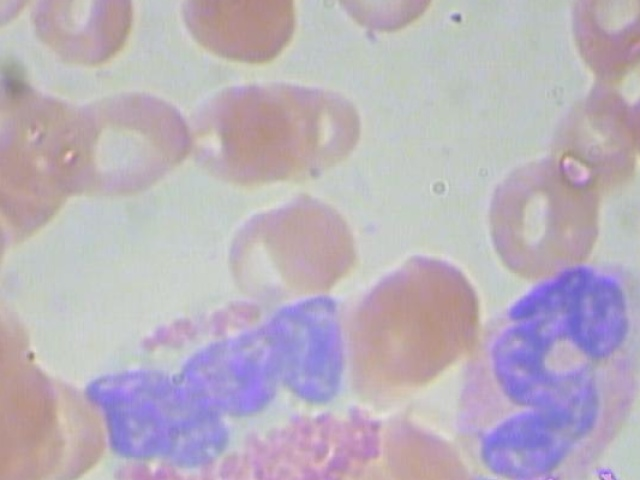RBC: (42, 78, 202, 207), (365, 238, 489, 384), (484, 148, 607, 277), (536, 83, 638, 190), (258, 182, 360, 289), (267, 65, 369, 172), (219, 72, 321, 179), (181, 78, 283, 185), (215, 198, 316, 305), (173, 0, 313, 67), (27, 0, 142, 66), (568, 0, 640, 79), (315, 0, 450, 36), (0, 267, 17, 401), (0, 73, 10, 177), (0, 192, 4, 298)
WBC: (75, 287, 403, 480), (443, 258, 640, 480)
